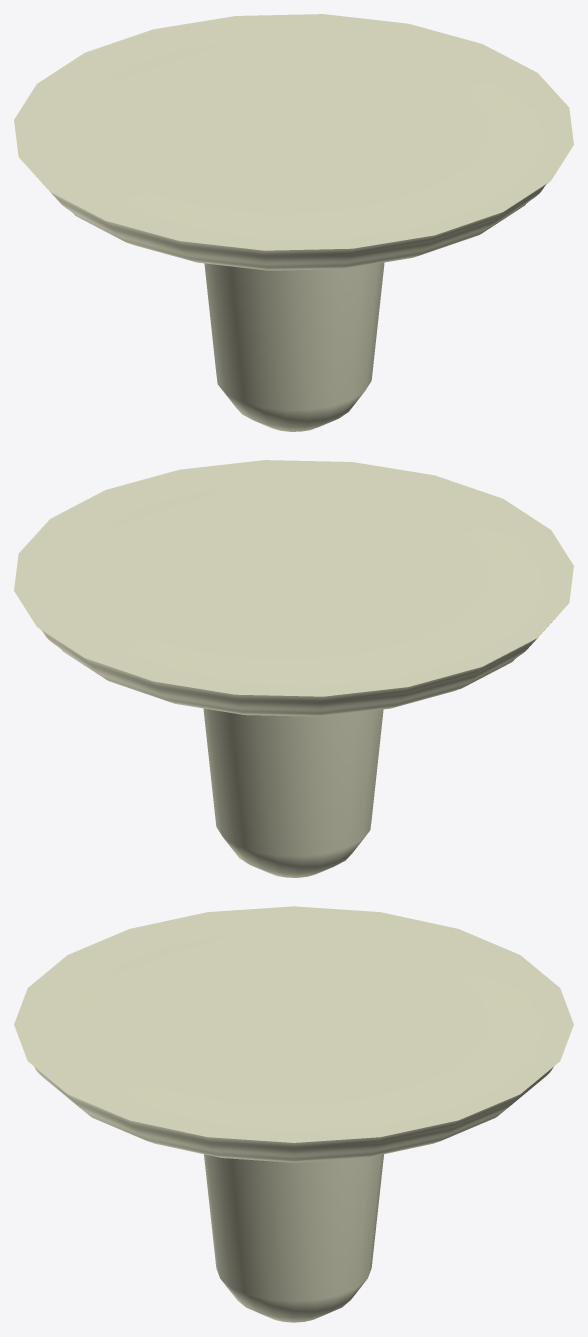
The model's file is hamurdokmeblend.fbx.
3 renders of one model, top to bottom at view 1: azimuth 30°, elevation 25°; view 2: azimuth 150°, elevation 25°; view 3: azimuth 270°, elevation 25°, orthographic.
Parts seen in each view (by area): view 1: pCylinder6, pCylinder5; view 2: pCylinder6, pCylinder5; view 3: pCylinder6, pCylinder5.
Boxes of the visible parts, left/top/right/bottom form: pCylinder6: left=14, top=14, right=573, bottom=270; pCylinder5: left=204, top=262, right=384, bottom=431; pCylinder6: left=14, top=460, right=573, bottom=716; pCylinder5: left=203, top=708, right=383, bottom=877; pCylinder6: left=14, top=906, right=573, bottom=1162; pCylinder5: left=204, top=1154, right=383, bottom=1322.
Size of the model in its own units: 168 by 96.32 by 168.
